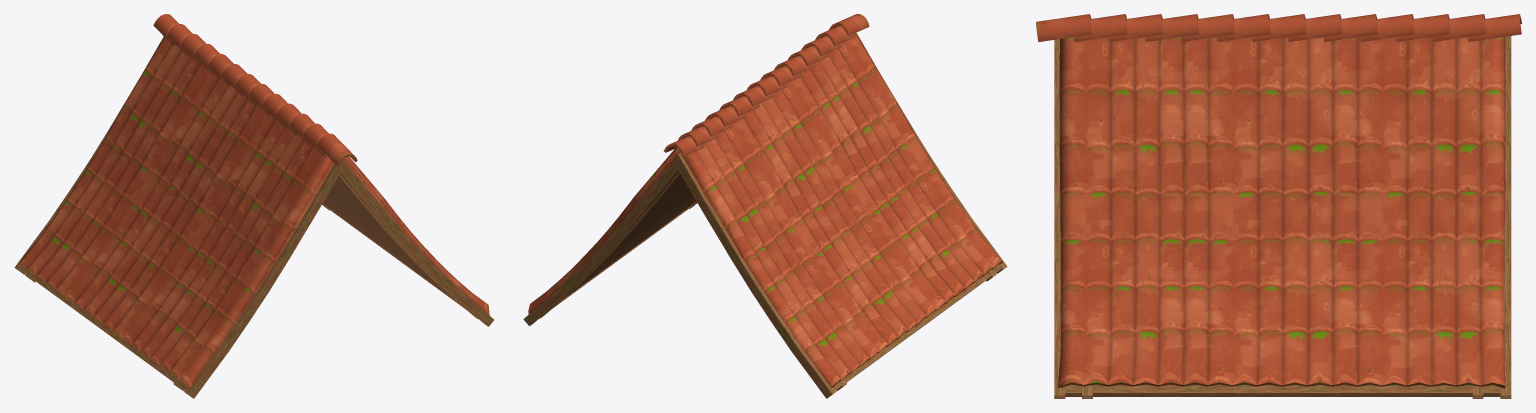
Rendered from Roof_RoundTiles_8x8.glb.
3 renders of one model, left to right at view 1: azimuth 30°, elevation 25°; view 2: azimuth 150°, elevation 25°; view 3: azimuth 270°, elevation 25°, orthographic. The views are drawn at different scales.
Parts seen in each view (by area): view 1: Roof_RoundTiles_8x8; view 2: Roof_RoundTiles_8x8; view 3: Roof_RoundTiles_8x8.
Boxes of the visible parts, left/top/right/bottom form: Roof_RoundTiles_8x8: left=14, top=14, right=494, bottom=398; Roof_RoundTiles_8x8: left=523, top=14, right=1007, bottom=398; Roof_RoundTiles_8x8: left=1036, top=14, right=1521, bottom=398.
Size of the model in its own units: 9.95 by 6.78 by 10.33.
Materials: 2 (2 with a texture image).
